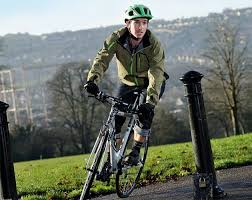helmet: (122, 3, 154, 20)
